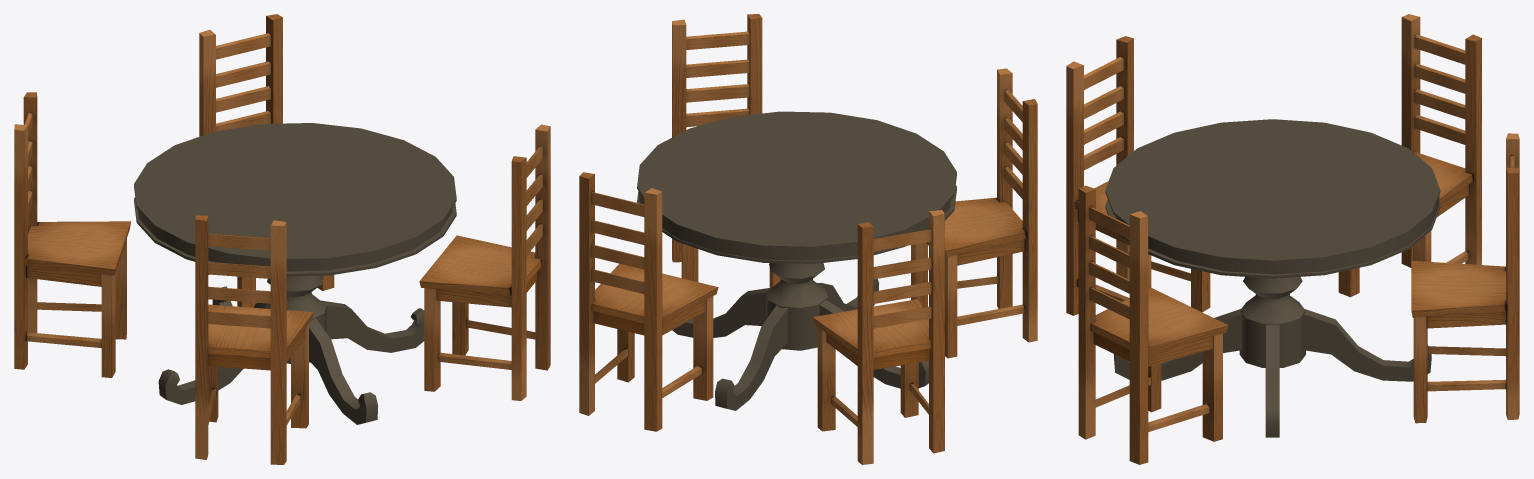
The model's file is tablewithchairs.glb.
3 views of the same model, side by side, from view 1: azimuth 30°, elevation 25°; view 2: azimuth 150°, elevation 25°; view 3: azimuth 270°, elevation 25° (orthographic). The views are drawn at different scales.
Parts seen in each view (by area): view 1: Table_RoundSmall2, Chair_mesh.001, Chair_mesh.003, Chair_mesh.002, Chair_mesh; view 2: Table_RoundSmall2, Chair_mesh, Chair_mesh.002, Chair_mesh.003, Chair_mesh.001; view 3: Table_RoundSmall2, Chair_mesh.001, Chair_mesh, Chair_mesh.002, Chair_mesh.003.
Part boxes in pixels (x1,y1,x2,y2): Table_RoundSmall2: [134, 123, 456, 424]; Chair_mesh.001: [419, 124, 550, 400]; Chair_mesh.003: [195, 215, 313, 464]; Chair_mesh.002: [14, 92, 130, 377]; Chair_mesh: [199, 14, 334, 307]; Table_RoundSmall2: [637, 111, 956, 410]; Chair_mesh: [579, 172, 718, 431]; Chair_mesh.002: [812, 210, 944, 464]; Chair_mesh.003: [911, 68, 1037, 358]; Chair_mesh.001: [672, 14, 780, 287]; Table_RoundSmall2: [1105, 119, 1440, 437]; Chair_mesh.001: [1078, 185, 1228, 464]; Chair_mesh: [1411, 133, 1519, 423]; Chair_mesh.002: [1338, 14, 1481, 317]; Chair_mesh.003: [1066, 36, 1210, 315].
Size of the model in its own units: 22.71 by 13.29 by 21.3.
Materials: 5 (4 with a texture image).
